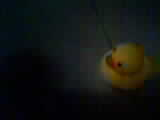duck: (100, 38, 143, 89)
